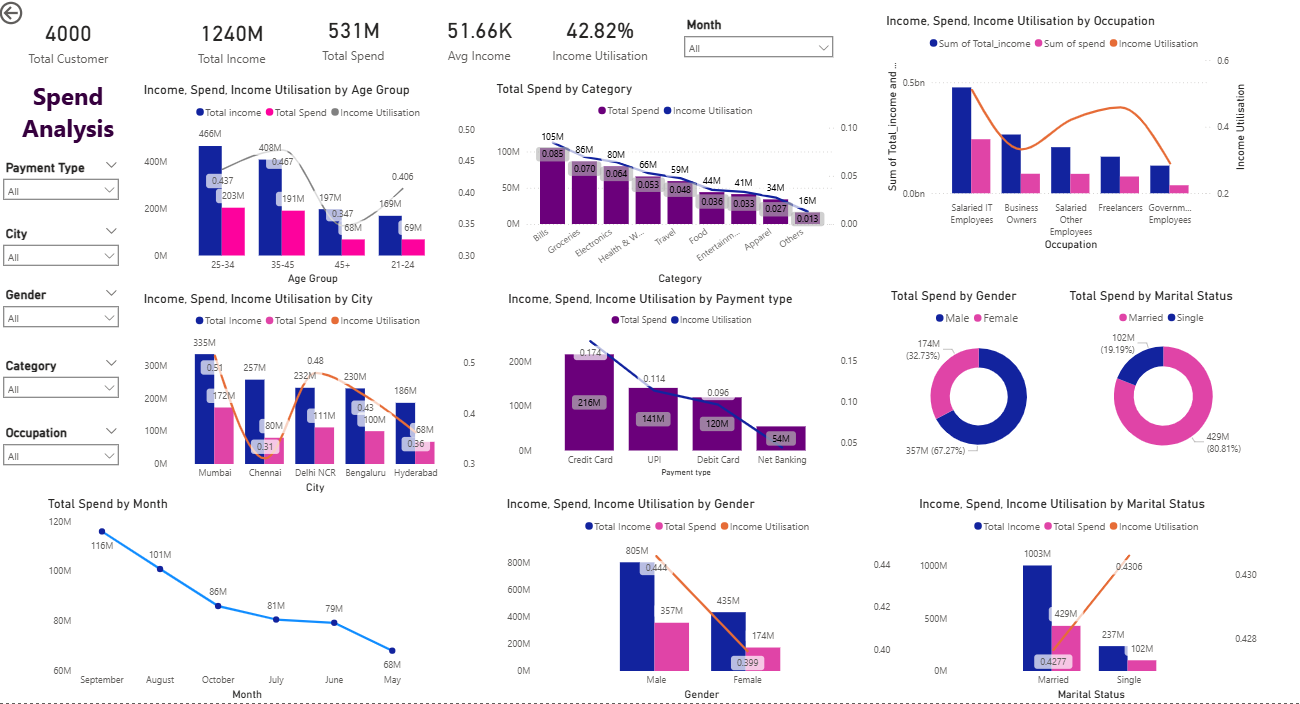

What the dashboard file says about the page in this screenshot:
{"tool":"powerbi","page":{"name":"Page 2","canvas":[1920,940],"ordinal":1},"visuals":[{"type":"card","fields":{"Values":["CountNonNull(dim_customers.customer_id)"]},"box":[0,0,192,110],"z":0},{"type":"actionButton","box":[0,0,100,40],"z":1000},{"type":"card","fields":{"Values":["Sum(dim_customers.Total_income)"]},"box":[228,8,172,94],"z":2000},{"type":"card","fields":{"Values":["Sum(fact_spends.spend)"]},"box":[388,2,176,100],"z":3000},{"type":"card","fields":{"Values":["Spend_summarize.Measure"]},"box":[710,2,190,100],"z":4000},{"type":"card","fields":{"Values":["Avg(dim_customers.avg_income)"]},"box":[550,0,188,102],"z":5000},{"type":"lineClusteredColumnComboChart","title":"Income, Spend, Income Utilisation by Age Group","fields":{"Category":["dim_customers.age_group"],"Y":["Sum(dim_customers.Total_income)","Sum(Spend_summarize.Total Spend)"],"Y2":["Spend_summarize.Income Utilisation"]},"box":[192,112,452,274],"z":6000},{"type":"lineClusteredColumnComboChart","title":"Total Spend by Category","fields":{"Category":["fact_spends.category"],"Y":["Sum(fact_spends.spend)"],"Y2":["Spend_summarize.Income Utilisation"]},"box":[662,110,492,276],"z":7000},{"type":"lineClusteredColumnComboChart","title":"Income, Spend, Income Utilisation by Occupation","fields":{"Category":["dim_customers.occupation"],"Y":["Sum(dim_customers.Total_income)","Sum(fact_spends.spend)"],"Y2":["Spend_summarize.Income Utilisation"]},"box":[1182,20,488,320],"z":8000},{"type":"lineClusteredColumnComboChart","title":"Income, Spend, Income Utilisation by City","fields":{"Category":["dim_customers.city"],"Y":["Sum(dim_customers.Total_income)","Sum(fact_spends.spend)"],"Y2":["Spend_summarize.Income Utilisation"]},"box":[192,390,452,274],"z":9000},{"type":"lineClusteredColumnComboChart","title":"Income, Spend, Income Utilisation by Payment type","fields":{"Category":["fact_spends.payment_type"],"Y":["Sum(fact_spends.spend)"],"Y2":["Spend_summarize.Income Utilisation"]},"box":[678,390,476,252],"z":10000},{"type":"donutChart","fields":{"Category":["dim_customers.gender"],"Y":["Sum(fact_spends.spend)"]},"box":[1188,386,244,240],"z":11000},{"type":"donutChart","fields":{"Category":["dim_customers.marital status"],"Y":["Sum(fact_spends.spend)"]},"box":[1426,386,260,240],"z":12000},{"type":"lineChart","fields":{"Category":["fact_spends.month"],"Y":["Sum(fact_spends.spend)"]},"box":[64,664,500,276],"z":13000},{"type":"slicer","fields":{"Values":["fact_spends.payment_type"]},"box":[0,210.3,173.5,83.8],"z":14000},{"type":"slicer","fields":{"Values":["dim_customers.city"]},"box":[0,297.1,173.5,83.8],"z":15000},{"type":"slicer","fields":{"Values":["dim_customers.gender"]},"box":[0,380.9,173.5,85.3],"z":16000},{"type":"slicer","fields":{"Values":["fact_spends.category"]},"box":[0,473.5,173.5,85.3],"z":17000},{"type":"slicer","fields":{"Values":["dim_customers.occupation"]},"box":[0,564.7,173.5,85.3],"z":18000},{"type":"lineClusteredColumnComboChart","title":"Income, Spend, Income Utilisation by Gender","fields":{"Y":["Sum(dim_customers.Total_income)","Sum(fact_spends.spend)"],"Category":["dim_customers.gender"],"Y2":["Spend_summarize.Income Utilisation"]},"box":[676,664,522,276],"z":19000},{"type":"lineClusteredColumnComboChart","title":"Income, Spend, Income Utilisation by Marital Status","fields":{"Y":["Sum(dim_customers.Total_income)","Sum(fact_spends.spend)"],"Y2":["Spend_summarize.Income Utilisation"],"Category":["dim_customers.marital status"]},"box":[1226,664,460,276],"z":20000},{"type":"slicer","fields":{"Values":["fact_spends.month"]},"box":[908,20,218,86],"z":21000},{"type":"textbox","box":[0,102,192,108],"z":22000}]}

Visuals, with their boxes on the page's 1920x940 design canvas (x1, y1, x2, y2). These are canvas units, not pixel positions in the 1300x704 screenshot, which may show the page scaled, cropped or inside an application window:
card - CountNonNull(dim_customers.customer_id): (0, 0, 192, 110)
actionButton: (0, 0, 100, 40)
card - Sum(dim_customers.Total_income): (228, 8, 400, 102)
card - Sum(fact_spends.spend): (388, 2, 564, 102)
card - Spend_summarize.Measure: (710, 2, 900, 102)
card - Avg(dim_customers.avg_income): (550, 0, 738, 102)
"Income, Spend, Income Utilisation by Age Group" lineClusteredColumnComboChart: (192, 112, 644, 386)
"Total Spend by Category" lineClusteredColumnComboChart: (662, 110, 1154, 386)
"Income, Spend, Income Utilisation by Occupation" lineClusteredColumnComboChart: (1182, 20, 1670, 340)
"Income, Spend, Income Utilisation by City" lineClusteredColumnComboChart: (192, 390, 644, 664)
"Income, Spend, Income Utilisation by Payment type" lineClusteredColumnComboChart: (678, 390, 1154, 642)
donutChart - dim_customers.gender x Sum(fact_spends.spend): (1188, 386, 1432, 626)
donutChart - dim_customers.marital status x Sum(fact_spends.spend): (1426, 386, 1686, 626)
lineChart - fact_spends.month x Sum(fact_spends.spend): (64, 664, 564, 940)
slicer - fact_spends.payment_type: (0, 210, 174, 294)
slicer - dim_customers.city: (0, 297, 174, 381)
slicer - dim_customers.gender: (0, 381, 174, 466)
slicer - fact_spends.category: (0, 474, 174, 559)
slicer - dim_customers.occupation: (0, 565, 174, 650)
"Income, Spend, Income Utilisation by Gender" lineClusteredColumnComboChart: (676, 664, 1198, 940)
"Income, Spend, Income Utilisation by Marital Status" lineClusteredColumnComboChart: (1226, 664, 1686, 940)
slicer - fact_spends.month: (908, 20, 1126, 106)
textbox: (0, 102, 192, 210)
